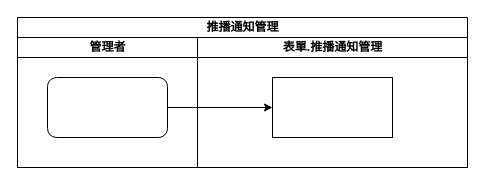
The diagram is 485 pixels wide and 185 high, and some of its shapes have lost their labels. The centre of each missing label's shape, as x and y in pixels:
"刪除裝置紀錄 裝置權限等同失效" belongs at (x=332, y=107).
"點擊按鈕.刪除" belongs at (x=107, y=107).
